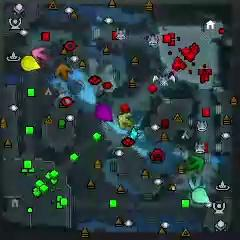p2: (191, 187, 210, 205)
p3: (96, 102, 113, 122)
p4: (20, 55, 41, 72)
x1: (31, 46, 47, 61)
x2: (118, 111, 133, 130)
x3: (189, 173, 205, 190)
x4: (187, 154, 204, 173)
x5: (55, 63, 73, 82)
